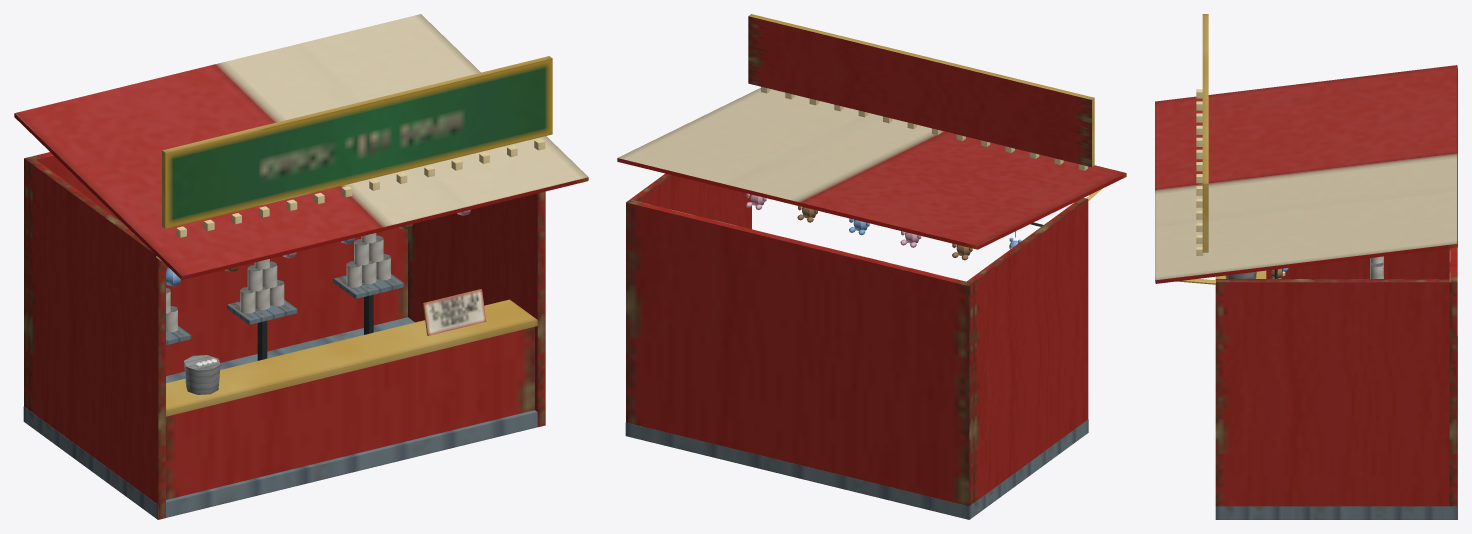
File: booth_bottles.obj
The picture shows the model from 3 angles, left to right: view 1: azimuth 30°, elevation 25°; view 2: azimuth 150°, elevation 25°; view 3: azimuth 270°, elevation 25°; orthographic projection. The views are drawn at different scales.
Parts seen in each view (by area): view 1: booth_bottles_roof, booth_bottles_counter, booth_bottles_side_l, booth_bottles_back, booth_bottles_side_r, booth_bottles, booth_bottles_stock, booth_bottles_bulbs; view 2: booth_bottles_back, booth_bottles_roof, booth_bottles_side_l, booth_bottles, booth_bottles_side_r, booth_bottles_prizes, booth_bottles_bulbs; view 3: booth_bottles_roof, booth_bottles_side_r, booth_bottles, booth_bottles_side_l, booth_bottles_back, booth_bottles_bulbs, booth_bottles_stock.
Part boxes in pixels (<box>): booth_bottles_roof: <box>14,14,588,279</box>; booth_bottles_counter: <box>166,289,537,499</box>; booth_bottles_side_l: <box>28,160,165,519</box>; booth_bottles_back: <box>24,152,407,409</box>; booth_bottles_side_r: <box>408,191,545,427</box>; booth_bottles: <box>23,317,537,519</box>; booth_bottles_stock: <box>166,233,404,394</box>; booth_bottles_bulbs: <box>176,139,545,237</box>; booth_bottles_back: <box>626,199,973,506</box>; booth_bottles_roof: <box>617,14,1126,249</box>; booth_bottles_side_l: <box>967,198,1088,502</box>; booth_bottles: <box>625,419,1088,519</box>; booth_bottles_side_r: <box>630,173,751,229</box>; booth_bottles_prizes: <box>746,193,1043,260</box>; booth_bottles_bulbs: <box>761,86,1087,170</box>; booth_bottles_roof: <box>1155,14,1457,284</box>; booth_bottles_side_r: <box>1215,279,1449,506</box>; booth_bottles: <box>1215,336,1457,519</box>; booth_bottles_side_l: <box>1266,248,1449,278</box>; booth_bottles_back: <box>1449,247,1457,506</box>; booth_bottles_bulbs: <box>1196,89,1203,255</box>; booth_bottles_stock: <box>1225,256,1383,278</box>.
Bounding box in the file's own units: 4.2 × 3.67 × 3.01.
Materials: 1 (1 with a texture image).
